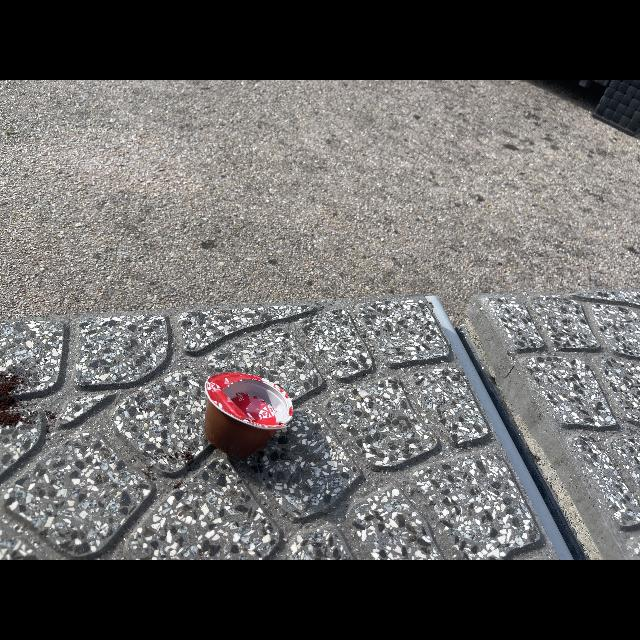damaged_capsule: (191, 364, 303, 461)
